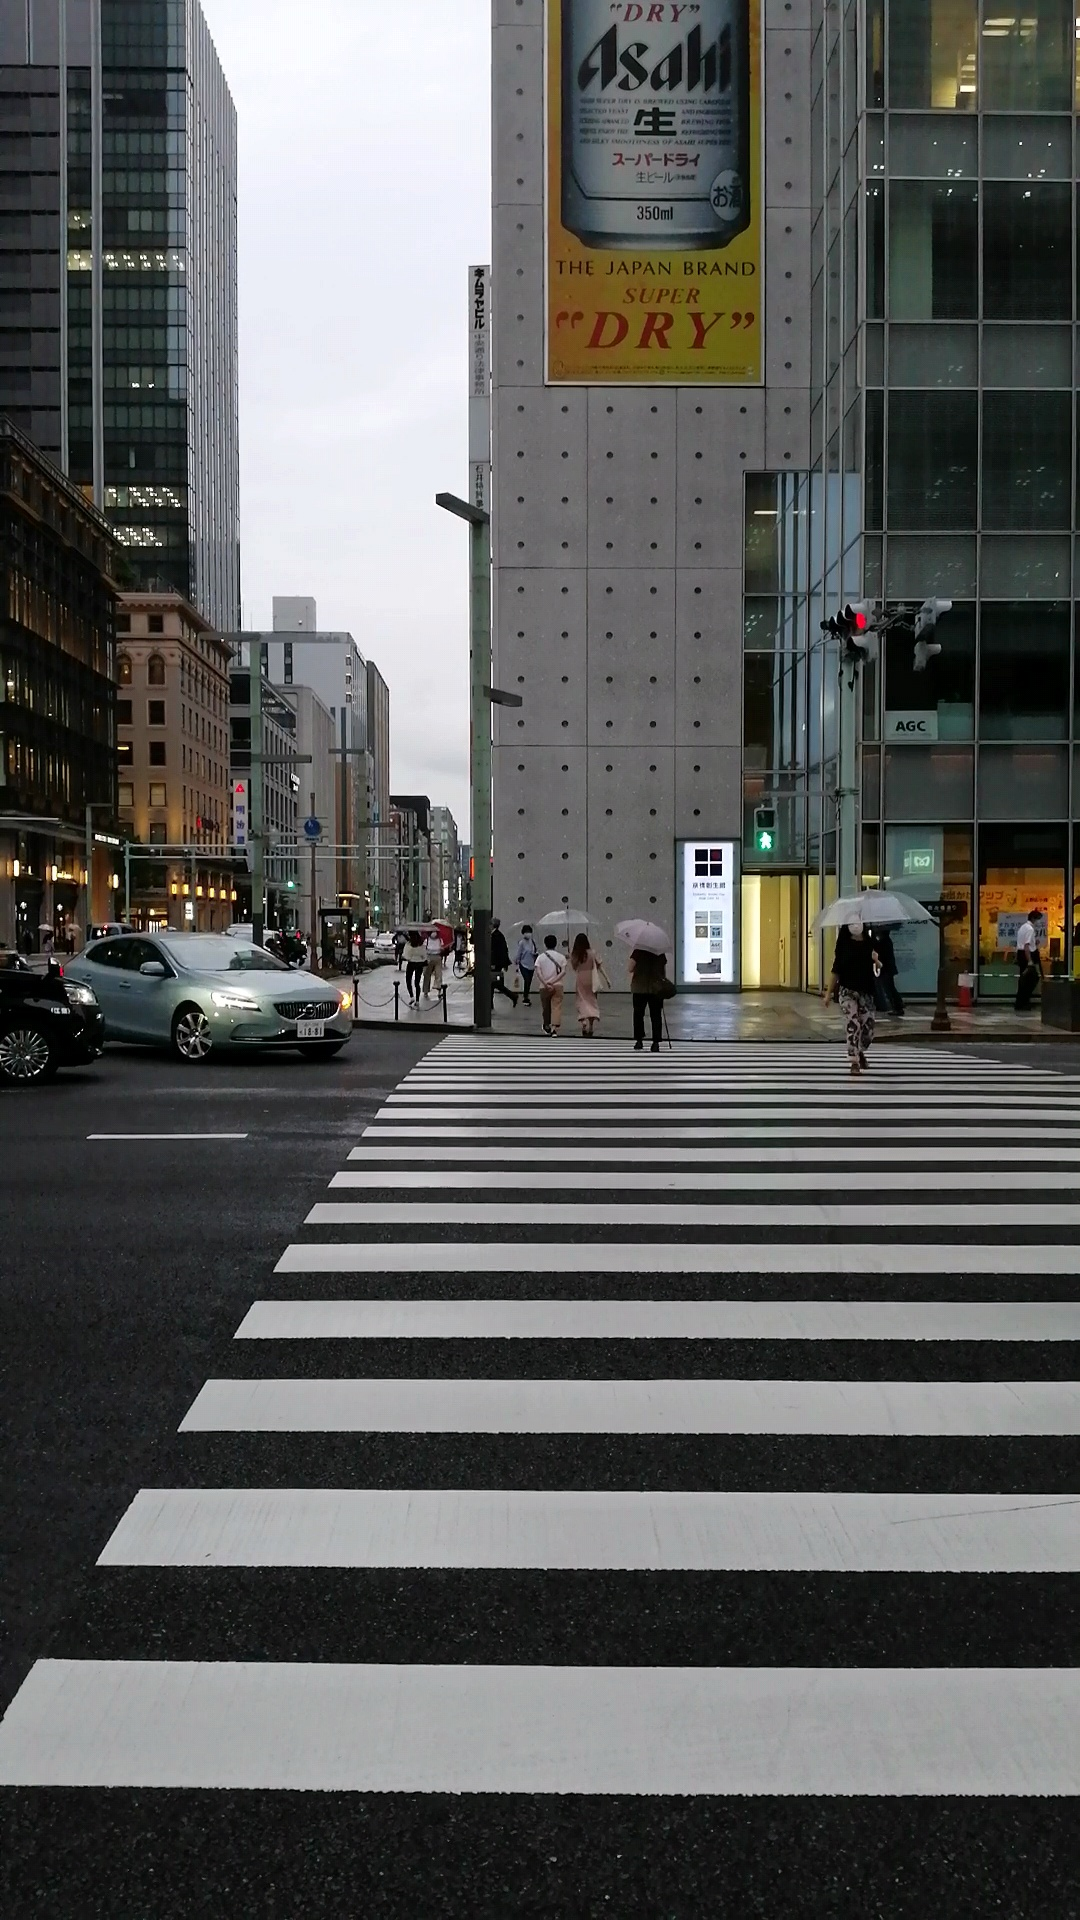green: (752, 806, 777, 852)
